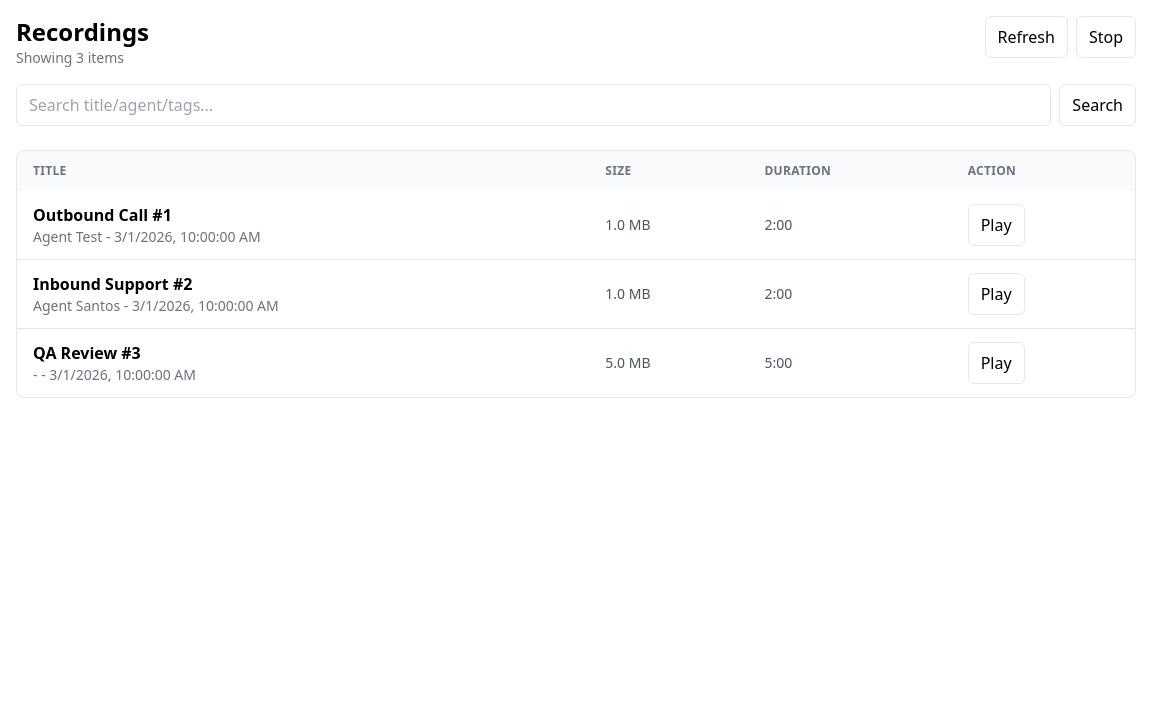
Scenario: Recordings › Audio Playback › shows progress slider when recording is active
Check: the text "Outbound Call #1" is shown, box [33,204,172,226]
Click the button "Play" in the row of "Outbound Call #1" at (996, 225), box [968,204,1025,246]
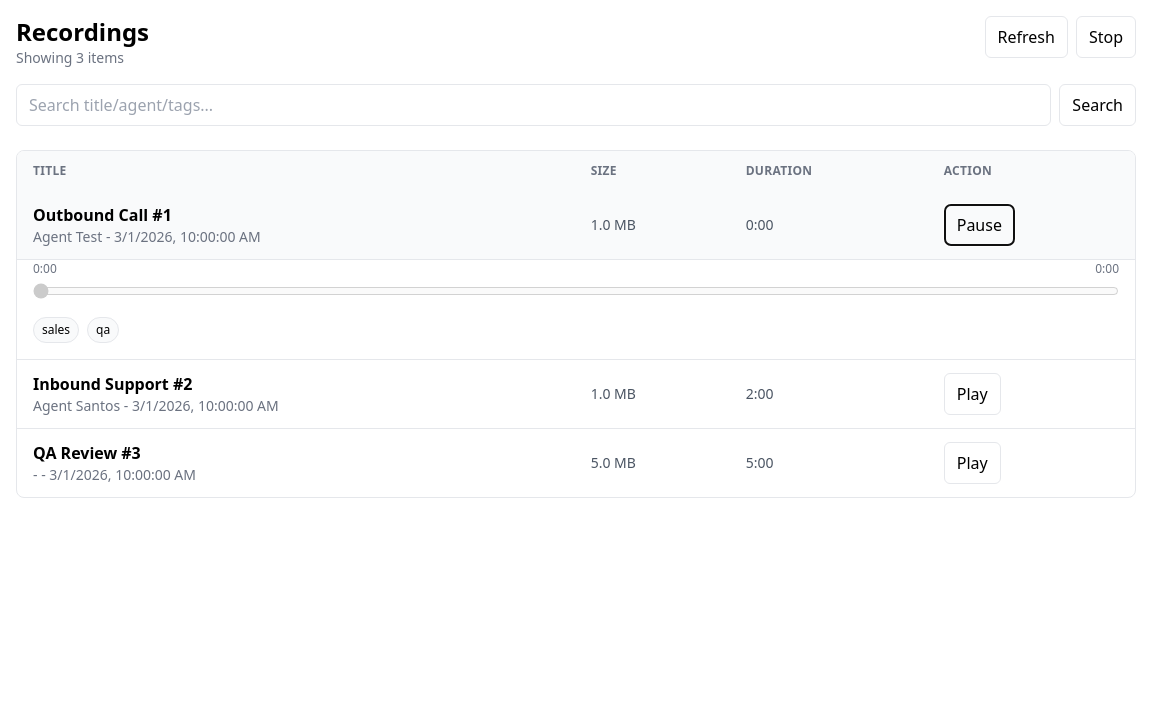
Check: the slider is shown, box [33,283,1119,299]
